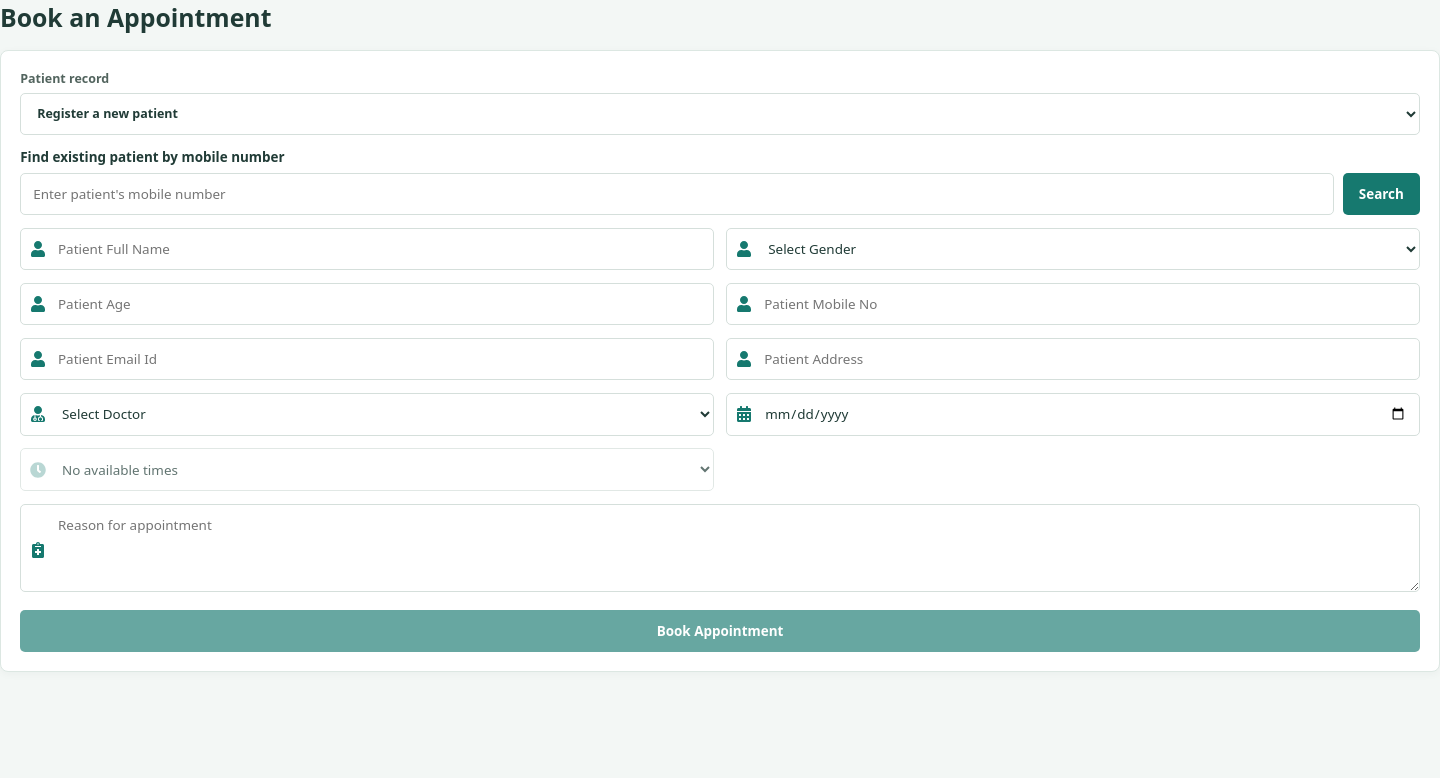
Test case: finds and selects an existing patient by mobile number
The width and height of the screenshot is (1440, 778).
Step 1. Type "(555) 1000" into the field labelled "Find existing patient by mobile number" → [677, 194], box [20,173,1334,215]
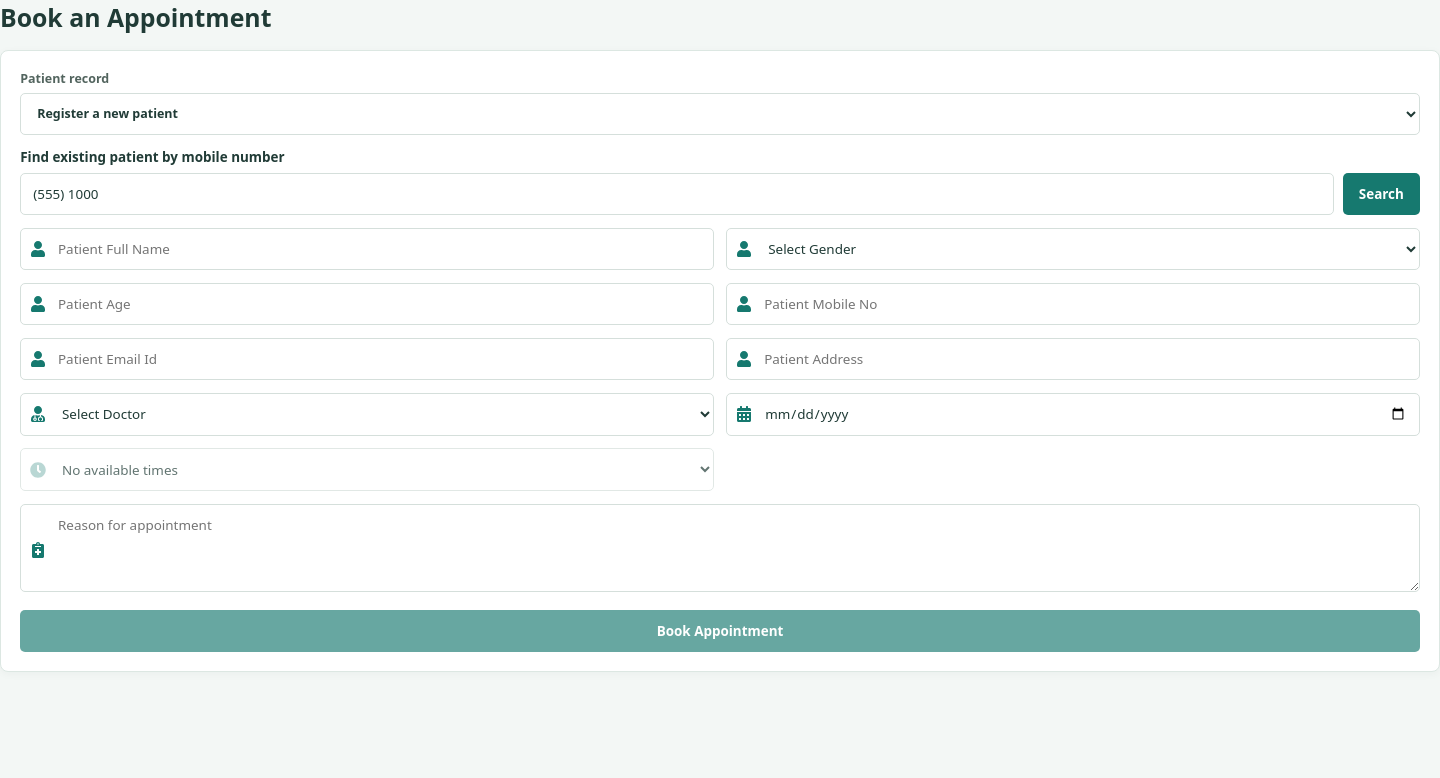
Step 2. Click the button "Search" → [1381, 194], box [1343,173,1420,215]
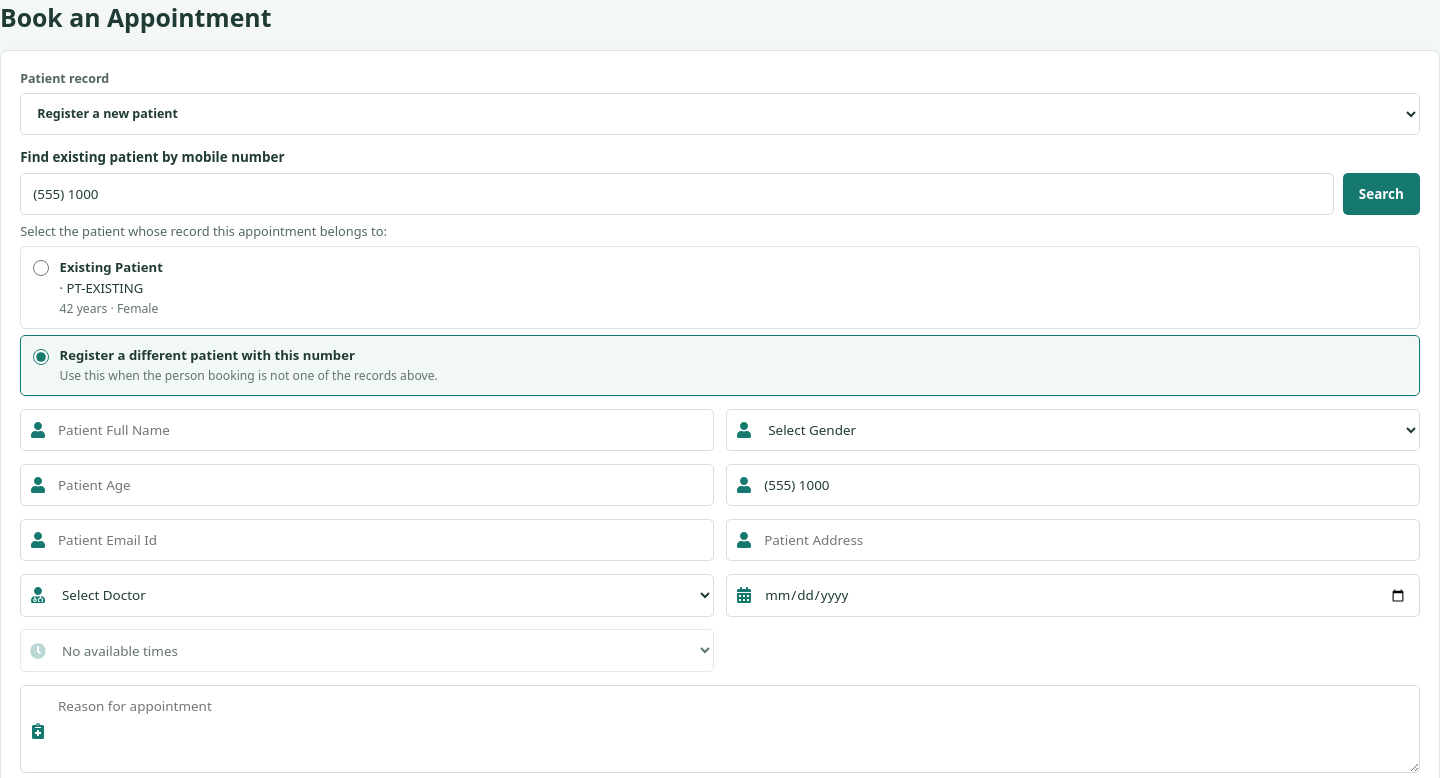
Step 3. Click the radio button labelled "Existing Patient · PT-EXISTING 42 years · Female" → [41, 268], box [33,260,49,276]
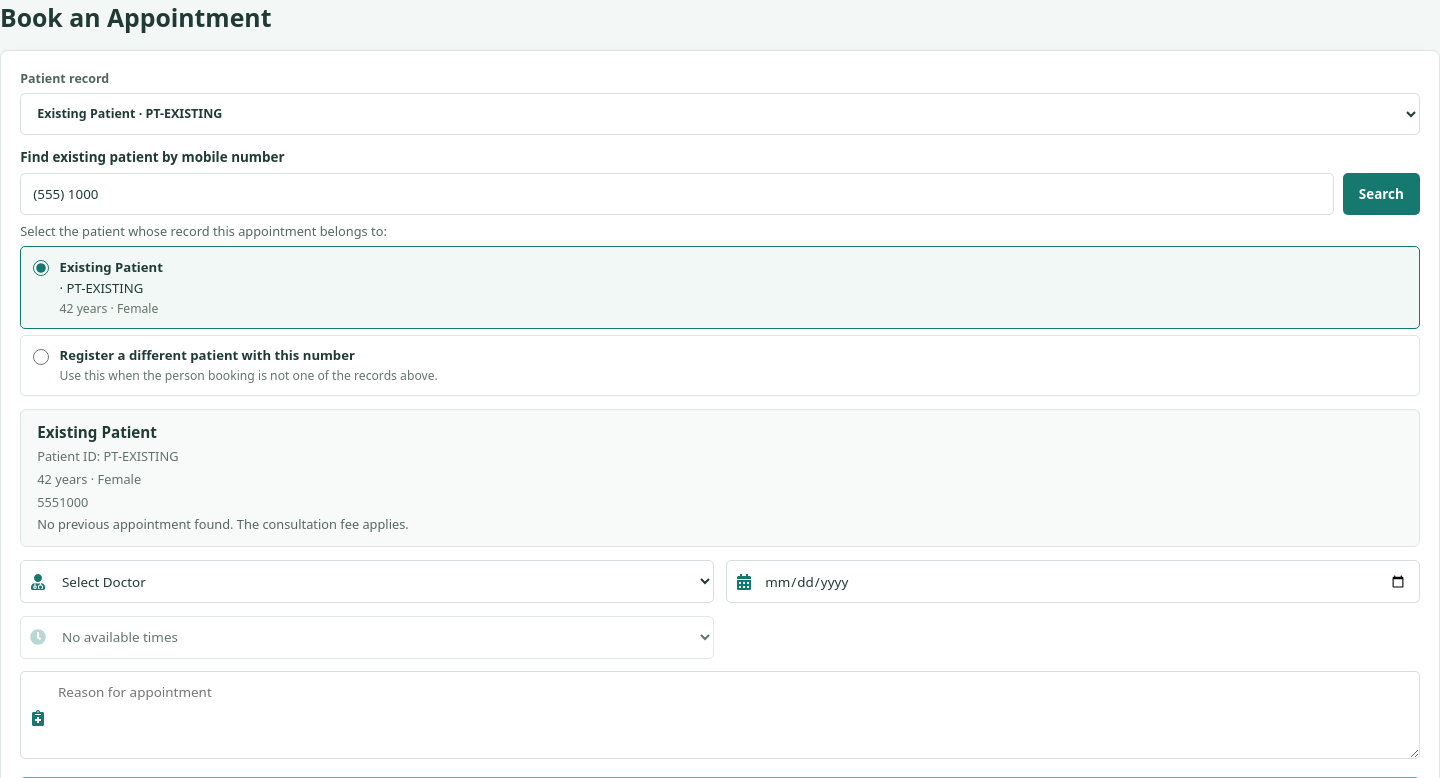
Expected: the field with placeholder "Patient Full Name" is not shown
Expected: the text "Patient ID: PT-EXISTING" is shown, [37,447,178,465]
